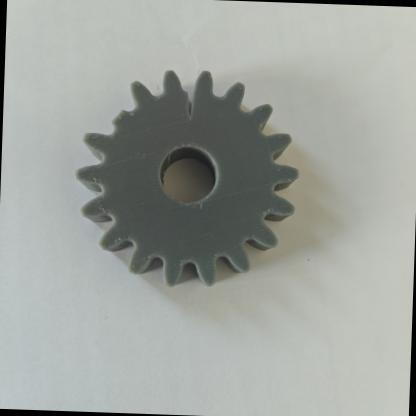defect: (154, 66, 227, 141), (74, 80, 140, 156)
gear: (47, 49, 338, 316)
